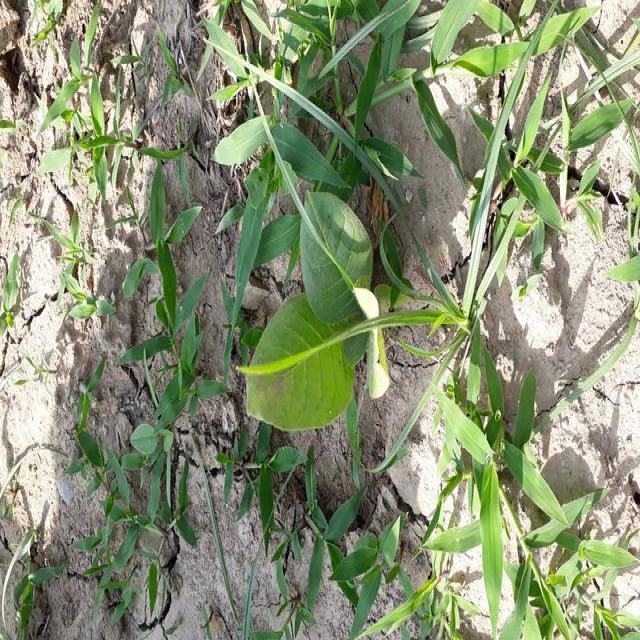crop: (246, 191, 388, 424)
